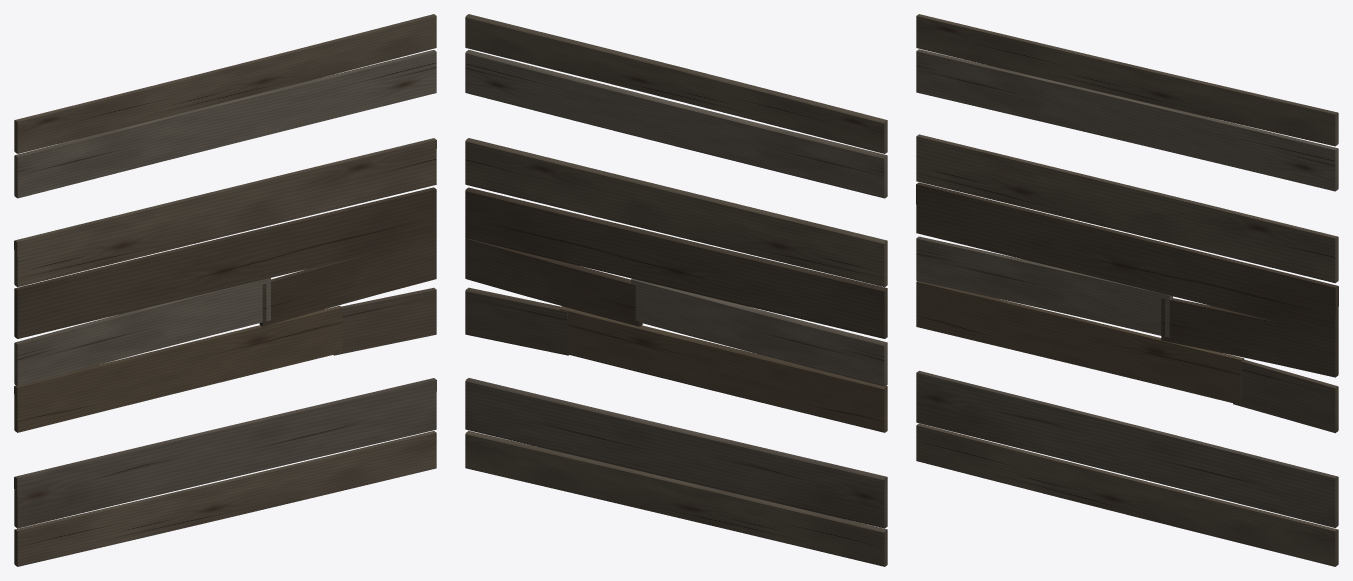
Rendered from S7U_Rev_Planks_2m_B.fbx.
3 views of the same model, side by side, from view 1: azimuth 30°, elevation 25°; view 2: azimuth 150°, elevation 25°; view 3: azimuth 330°, elevation 25° (orthographic).
Visible parts, largest first — view 1: S7U_Rev_Planks_2m_B; view 2: S7U_Rev_Planks_2m_B; view 3: S7U_Rev_Planks_2m_B.
Boxes of the visible parts, bbox=[...] form: S7U_Rev_Planks_2m_B: bbox=[14, 14, 436, 566]; S7U_Rev_Planks_2m_B: bbox=[465, 14, 887, 566]; S7U_Rev_Planks_2m_B: bbox=[916, 14, 1338, 566].
Bounding box in the file's own units: 2.04 × 2.1 × 0.0401.
